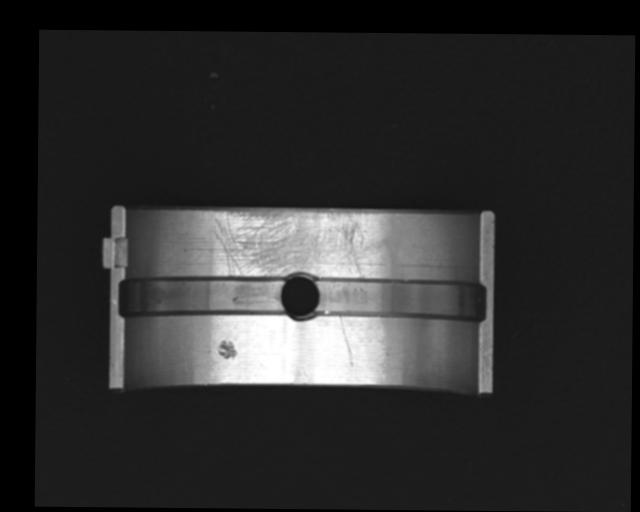bruise: (216, 338, 237, 360)
gap: (314, 278, 485, 320), (118, 276, 286, 317)
hole: (279, 273, 321, 320)
nick: (337, 315, 353, 367)
scratch: (212, 209, 383, 278)
